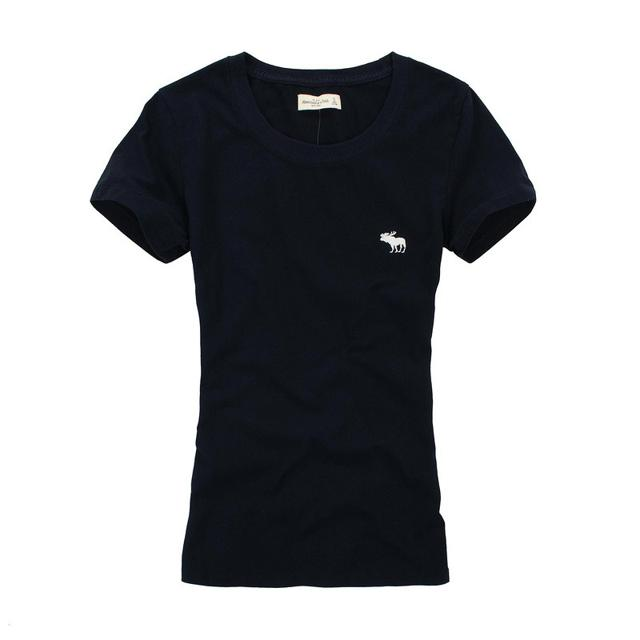Tops: (90, 49, 536, 587)
